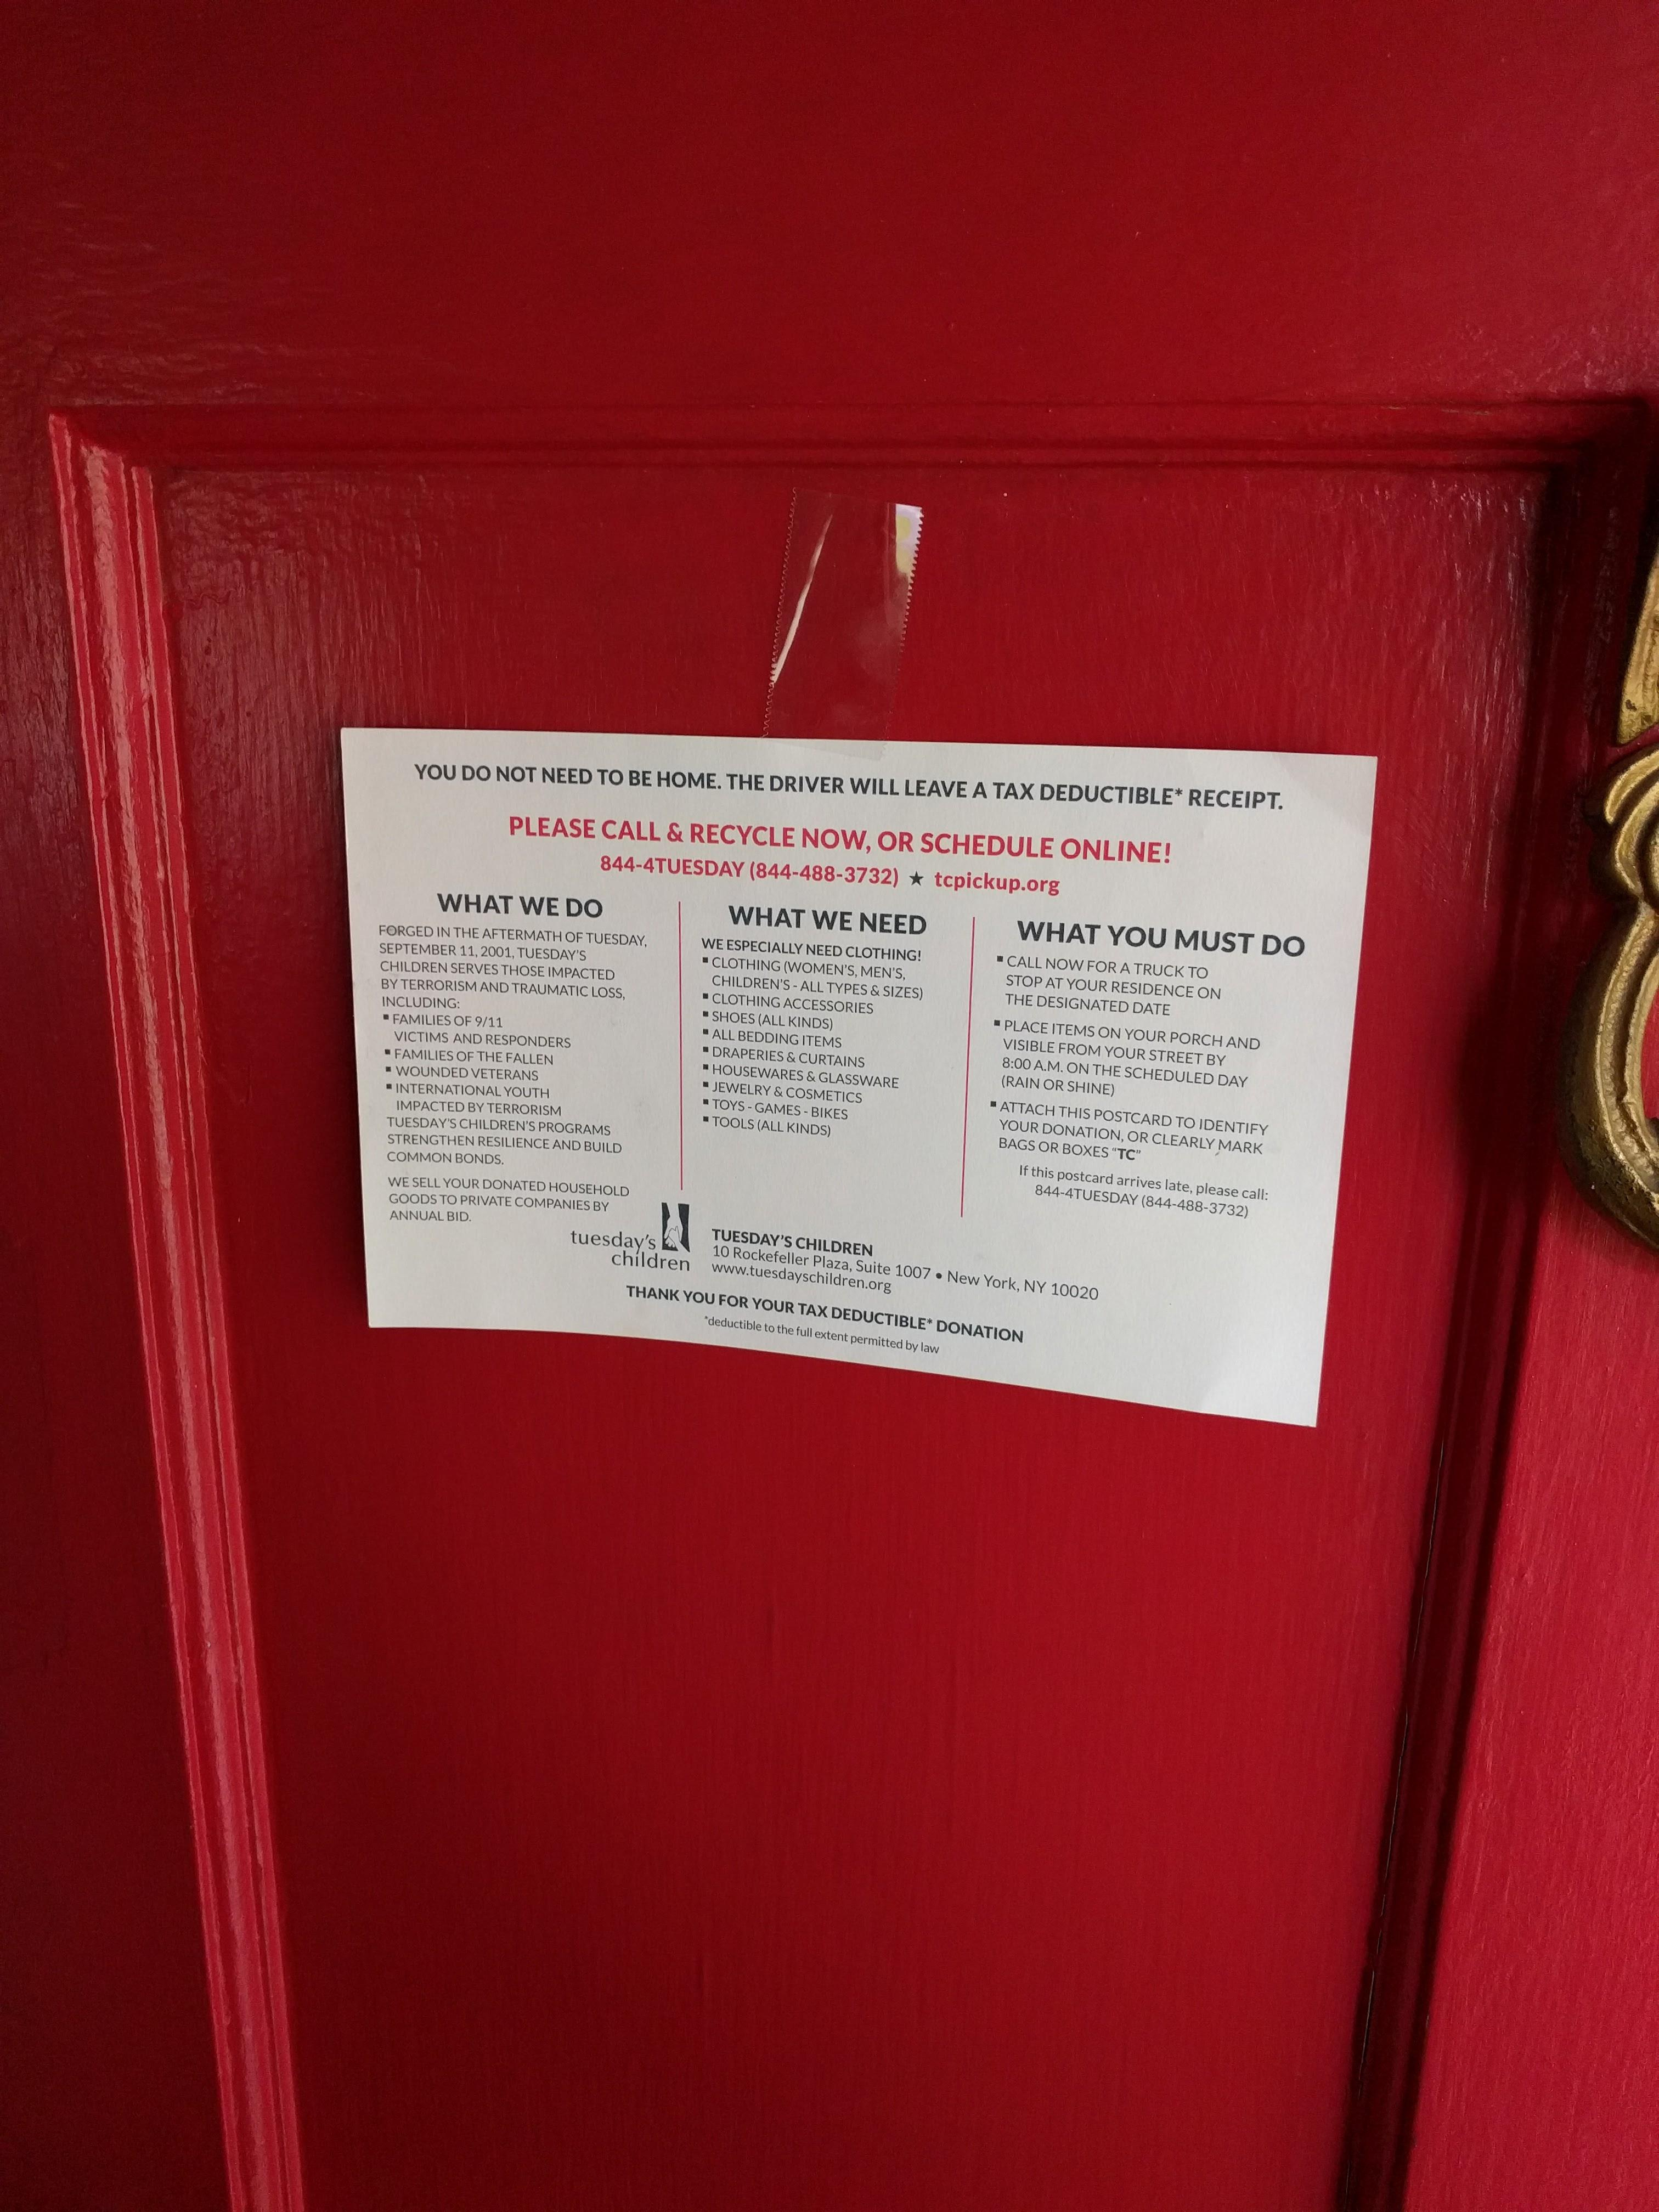paper: (137, 535, 1566, 1620)
